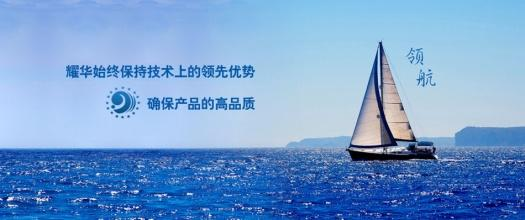fanchuan: (341, 43, 443, 170)
